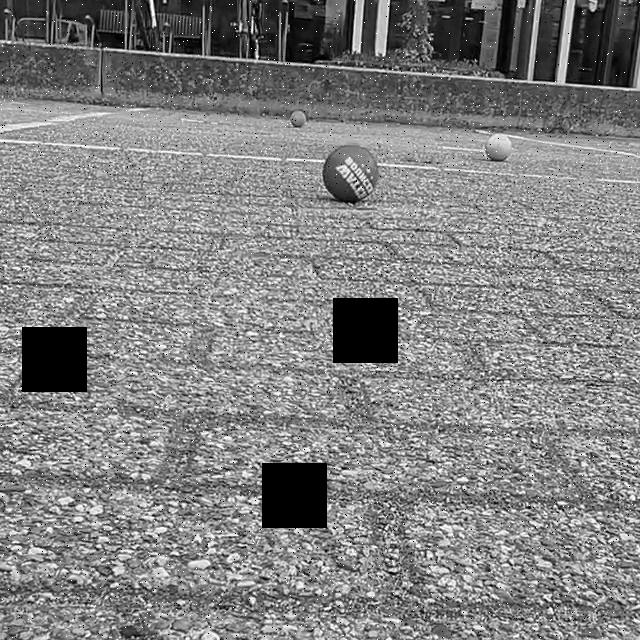ball: (482, 128, 512, 165), (289, 105, 308, 132)
